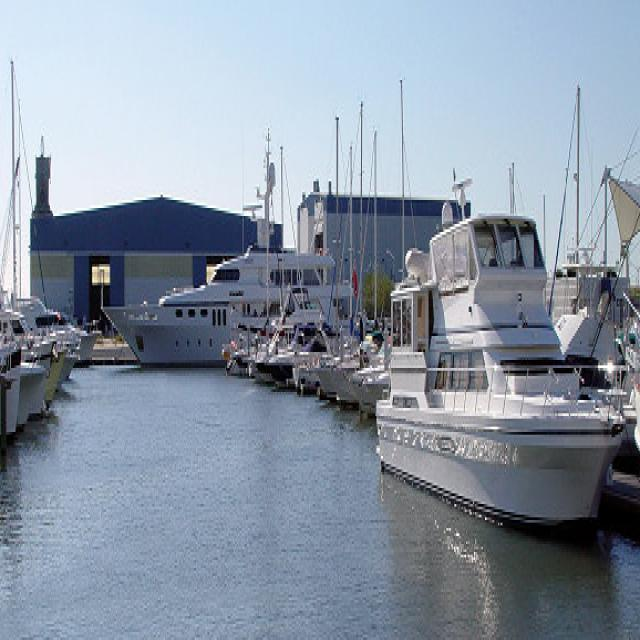houseboat: (372, 210, 614, 542)
